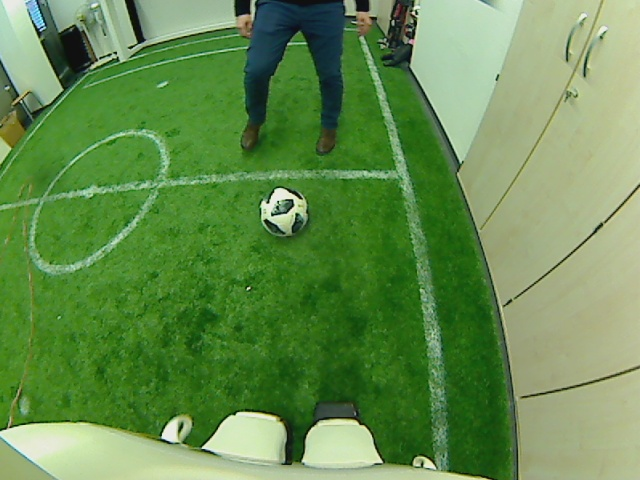ball: (260, 183, 308, 238)
